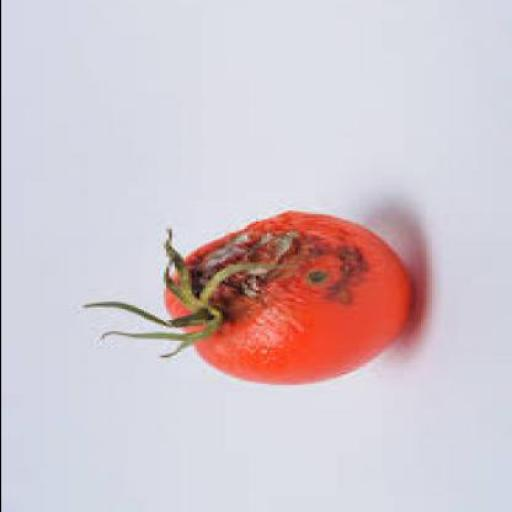biodegradable: (78, 215, 414, 387)
